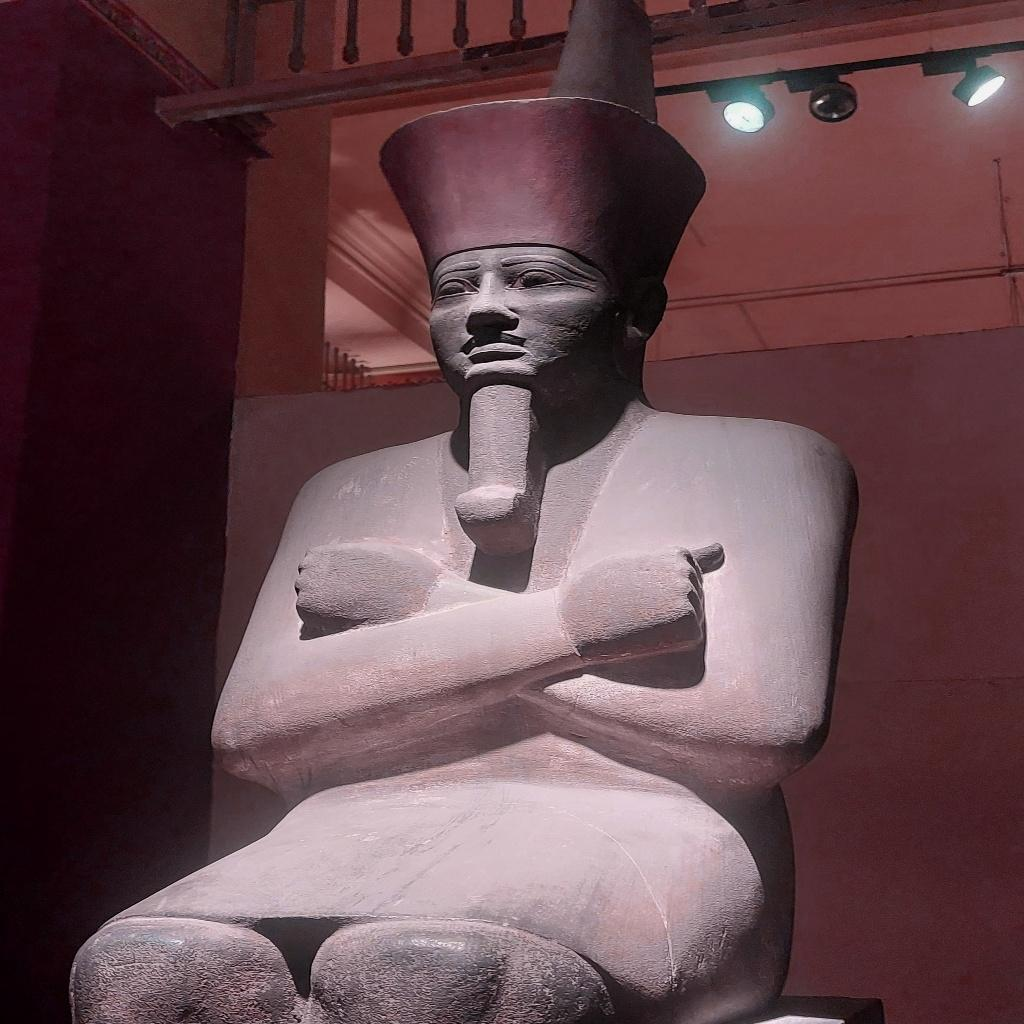Mentuhotep Nebhetpre: (64, 7, 864, 1021)
